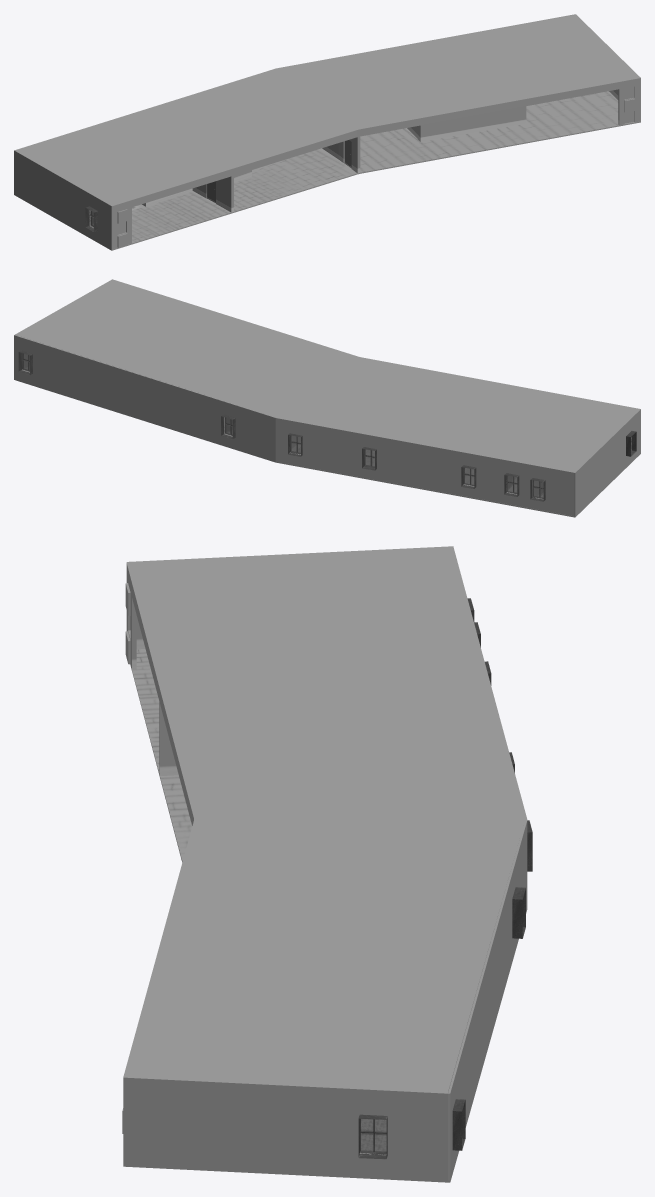
The model's file is DollHouse.fbx.
3 renders of one model, top to bottom at view 1: azimuth 30°, elevation 25°; view 2: azimuth 150°, elevation 25°; view 3: azimuth 270°, elevation 25°, orthographic. The views are drawn at different scales.
Parts seen in each view (by area): view 1: Dollhouse; view 2: Dollhouse, Window, Window.001, Window.002; view 3: Dollhouse, Window.007.
Part boxes in pixels (left/top/right/bottom): Dollhouse: left=14, top=14, right=640, bottom=250; Dollhouse: left=14, top=279, right=640, bottom=517; Window: left=504, top=473, right=519, bottom=496; Window.001: left=530, top=478, right=545, bottom=501; Window.002: left=461, top=465, right=476, bottom=488; Dollhouse: left=122, top=546, right=527, bottom=1182; Window.007: left=358, top=1114, right=387, bottom=1159.
Bounding box in the file's own units: 8119 × 615 × 2566.
4 materials, 4 textured.
